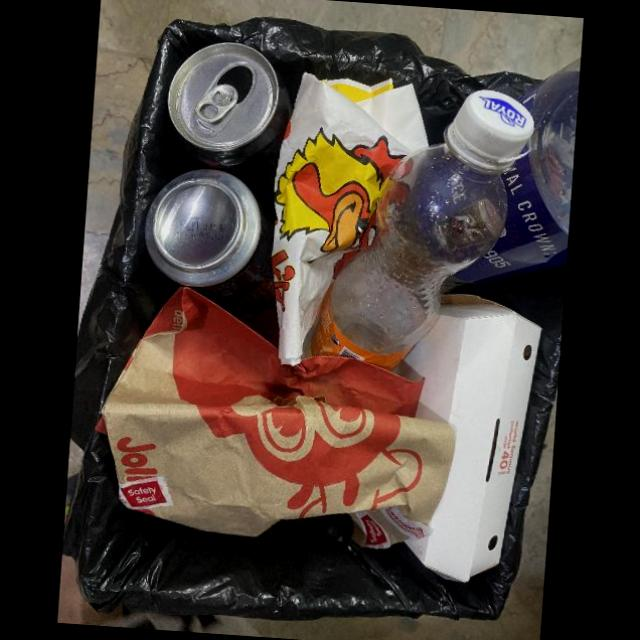carton: (391, 294, 542, 582)
chai_nhua_pet: (300, 89, 532, 372), (439, 58, 580, 292)
giay: (92, 285, 456, 548), (271, 72, 428, 365)
nhom: (167, 42, 293, 217), (145, 169, 275, 311)
